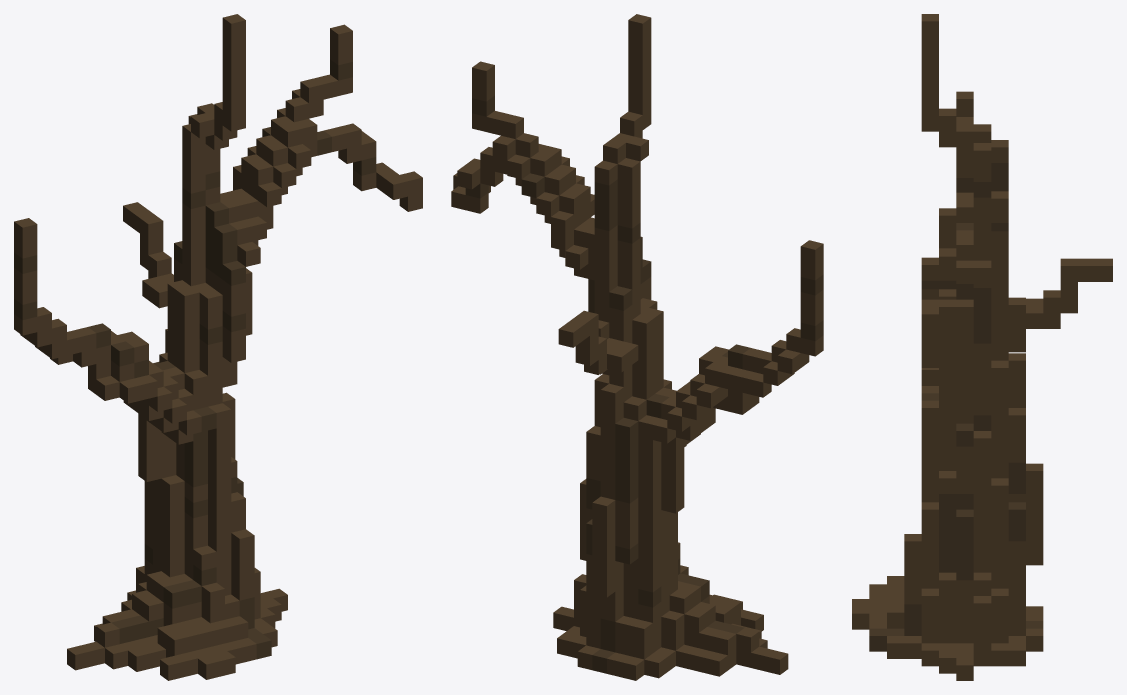
File: deadTree1.vox.obj
The picture shows the model from 3 angles, left to right: view 1: azimuth 30°, elevation 25°; view 2: azimuth 150°, elevation 25°; view 3: azimuth 270°, elevation 25°; orthographic projection. The views are drawn at different scales.
Bounding box in the file's own units: 2.6 × 4 × 1.5.
Materials: 1 (1 with a texture image).
